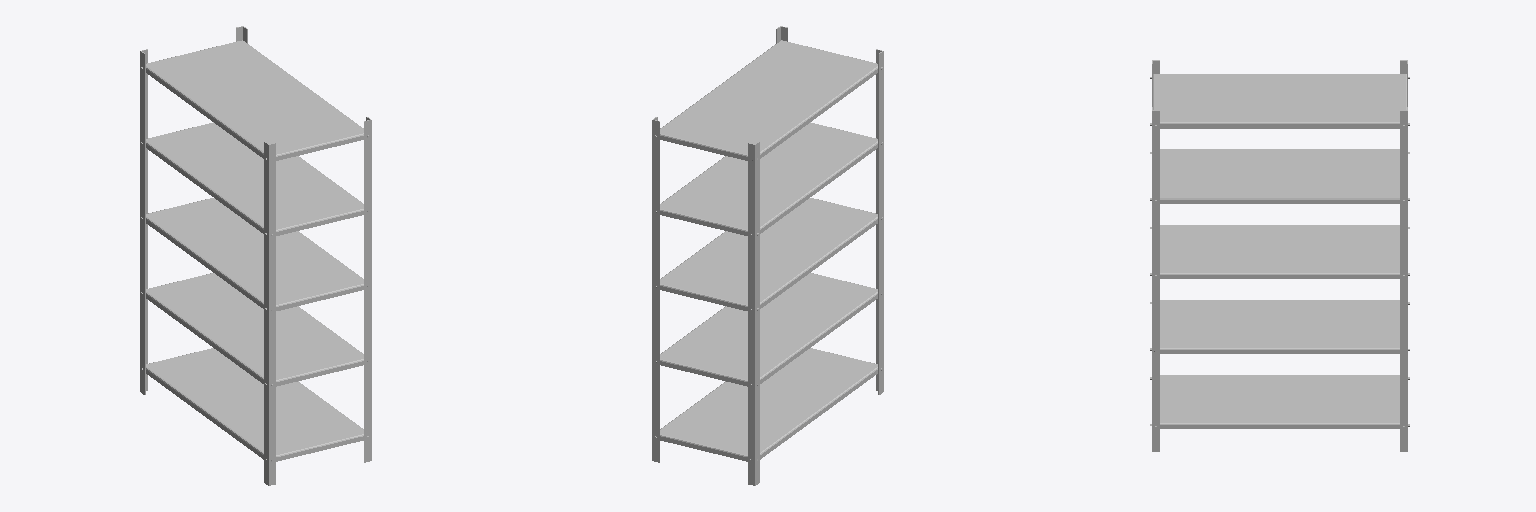
Rendered from shelf.obj.
The picture shows the model from 3 angles: view 1: azimuth 30°, elevation 25°; view 2: azimuth 150°, elevation 25°; view 3: azimuth 270°, elevation 25°; orthographic projection.
Parts seen in each view (by area): view 1: shelf_Cube.002; view 2: shelf_Cube.002; view 3: shelf_Cube.002.
Part boxes in pixels (left/top/right/bottom): shelf_Cube.002: left=140, top=26, right=371, bottom=485; shelf_Cube.002: left=652, top=26, right=883, bottom=485; shelf_Cube.002: left=1150, top=60, right=1409, bottom=451.
Bounding box in the file's own units: 2.08 × 6.44 × 4.43.